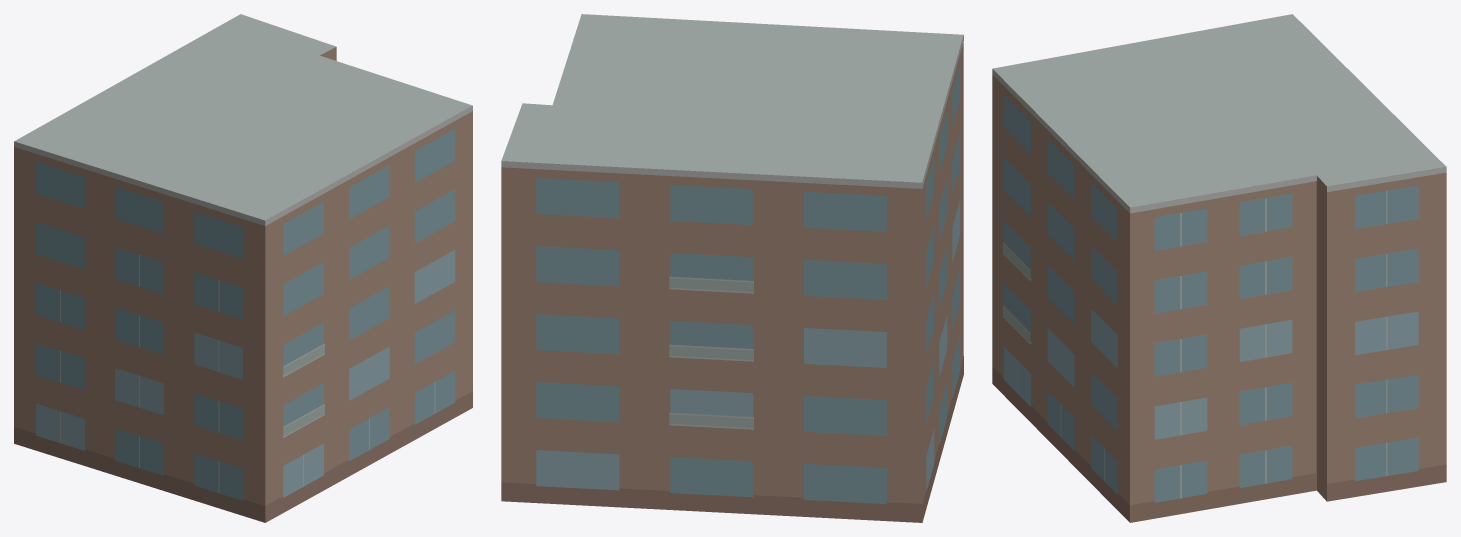
The model's file is survey-upis-33038869.glb.
The picture shows the model from 3 angles, left to right: view 1: azimuth 30°, elevation 25°; view 2: azimuth 150°, elevation 25°; view 3: azimuth 270°, elevation 25°; orthographic projection. The views are drawn at different scales.
Parts seen in each view (by area): view 1: survey-upis-33038869.tmp; view 2: survey-upis-33038869.tmp; view 3: survey-upis-33038869.tmp.
Boxes of the visible parts, box(x1,y1,x2,y2) form: survey-upis-33038869.tmp: box(14, 14, 472, 522); survey-upis-33038869.tmp: box(501, 14, 963, 522); survey-upis-33038869.tmp: box(992, 14, 1446, 522).
Size of the model in its own units: 17.68 by 13.4 by 17.51.
